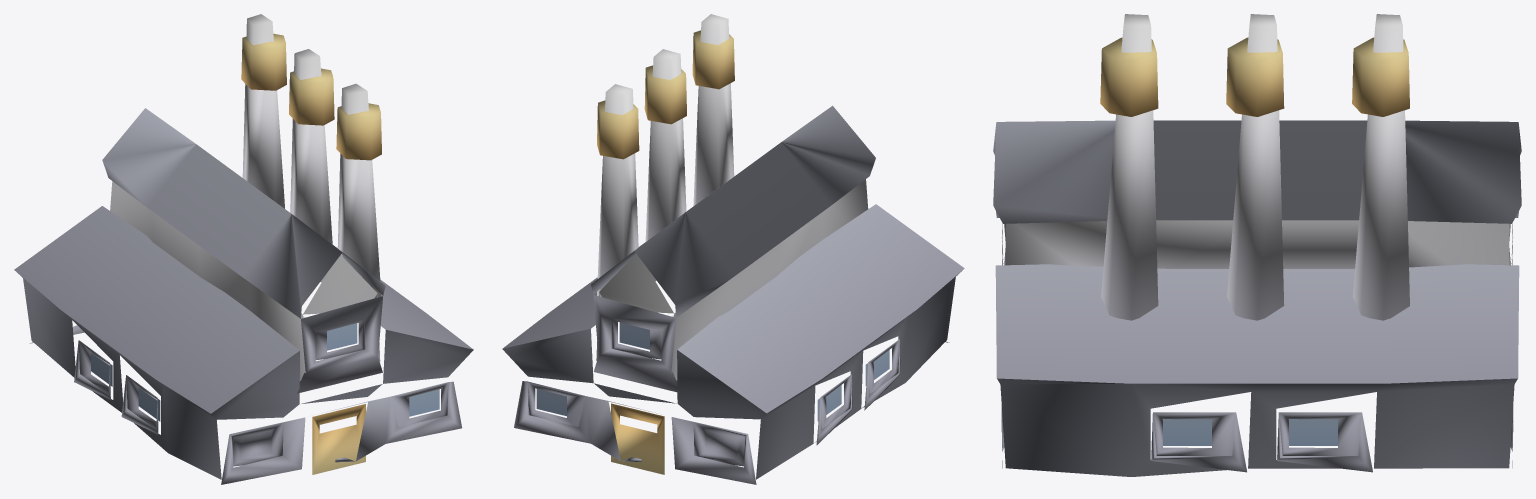
3 renders of one model, left to right at view 1: azimuth 30°, elevation 25°; view 2: azimuth 150°, elevation 25°; view 3: azimuth 270°, elevation 25°, orthographic. The views are drawn at different scales.
Size of the model in its own units: 10.53 by 12.15 by 13.44.
